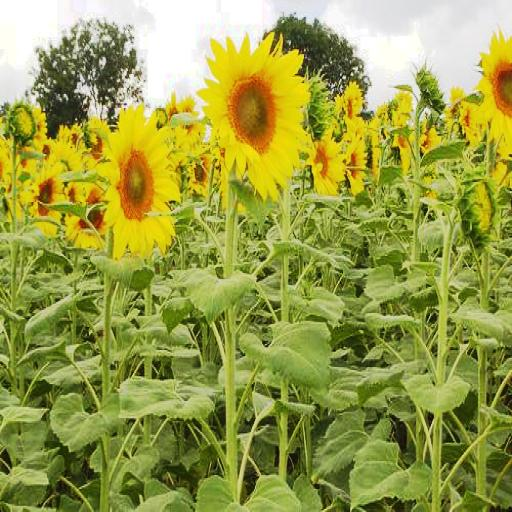sunflower: (200, 28, 308, 197), (99, 106, 177, 258), (478, 23, 512, 159), (26, 165, 60, 231), (310, 134, 345, 198), (346, 131, 368, 194), (345, 88, 358, 128)
